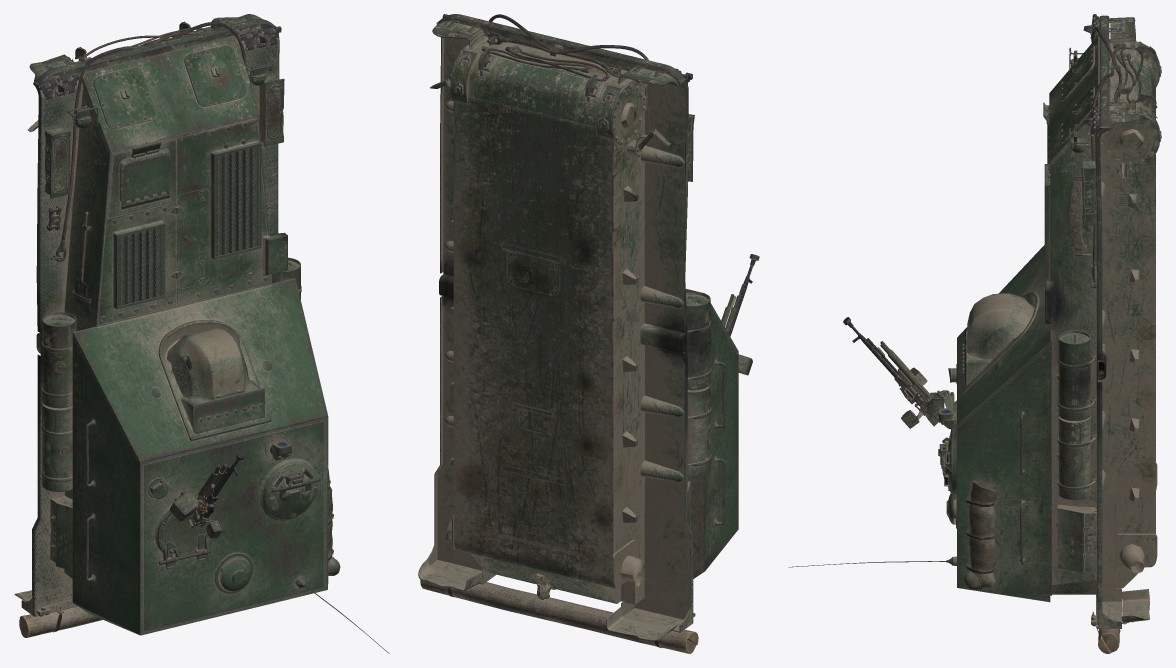
File: Hull.glb
3 views of the same model, side by side, from view 1: azimuth 30°, elevation 25°; view 2: azimuth 150°, elevation 25°; view 3: azimuth 270°, elevation 25° (orthographic). The views are drawn at different scales.
Parts seen in each view (by area): view 1: set_0_group_0, set_0_group_1; view 2: set_0_group_0, set_0_group_1; view 3: set_0_group_0, set_0_group_1.
Part boxes in pixels (left/top/right/bottom): set_0_group_0: left=14, top=14, right=389, bottom=653; set_0_group_1: left=19, top=22, right=340, bottom=637; set_0_group_0: left=418, top=14, right=738, bottom=641; set_0_group_1: left=420, top=14, right=759, bottom=653; set_0_group_0: left=788, top=15, right=1161, bottom=628; set_0_group_1: left=843, top=14, right=1143, bottom=653.
Bounding box in the file's own units: 3.31 × 6.95 × 4.35.
Materials: 2 (2 with a texture image).
